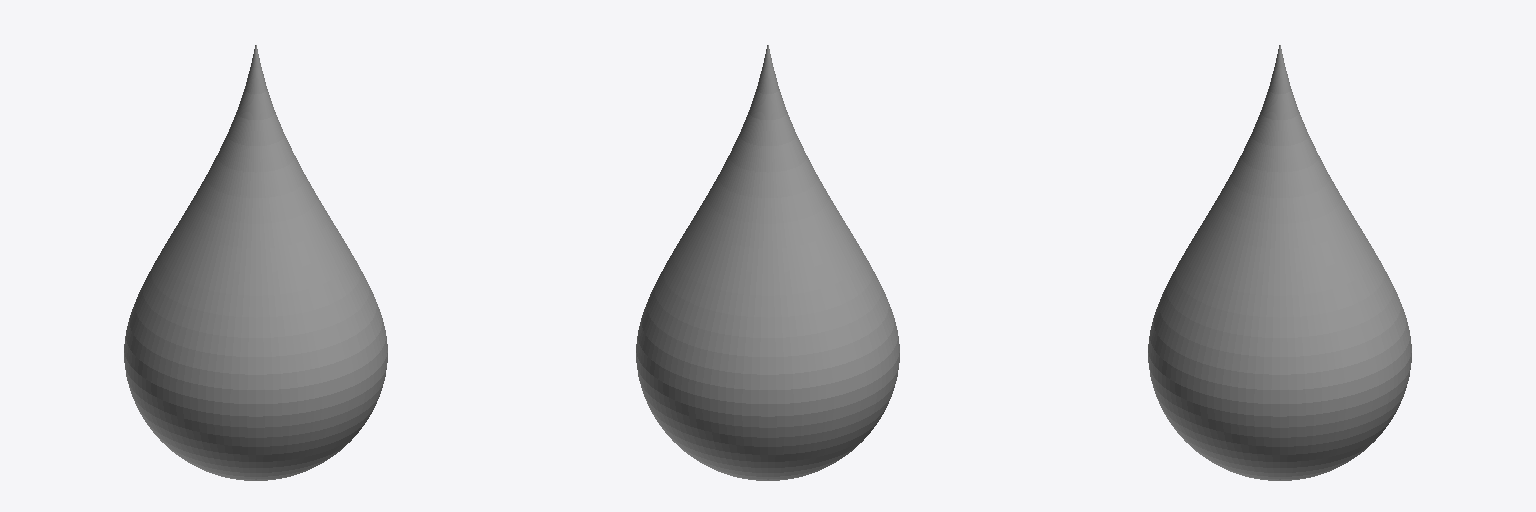
The model's file is stylized_ink_drop.obj.
3 views of the same model, side by side, from view 1: azimuth 30°, elevation 25°; view 2: azimuth 150°, elevation 25°; view 3: azimuth 270°, elevation 25° (orthographic).
Parts seen in each view (by area): view 1: stylized_ink_drop; view 2: stylized_ink_drop; view 3: stylized_ink_drop.
Part boxes in pixels (bbox=[...]): stylized_ink_drop: bbox=[124, 45, 387, 480]; stylized_ink_drop: bbox=[636, 45, 899, 480]; stylized_ink_drop: bbox=[1148, 45, 1411, 480].
Size of the model in its own units: 5.6 by 10 by 5.6.